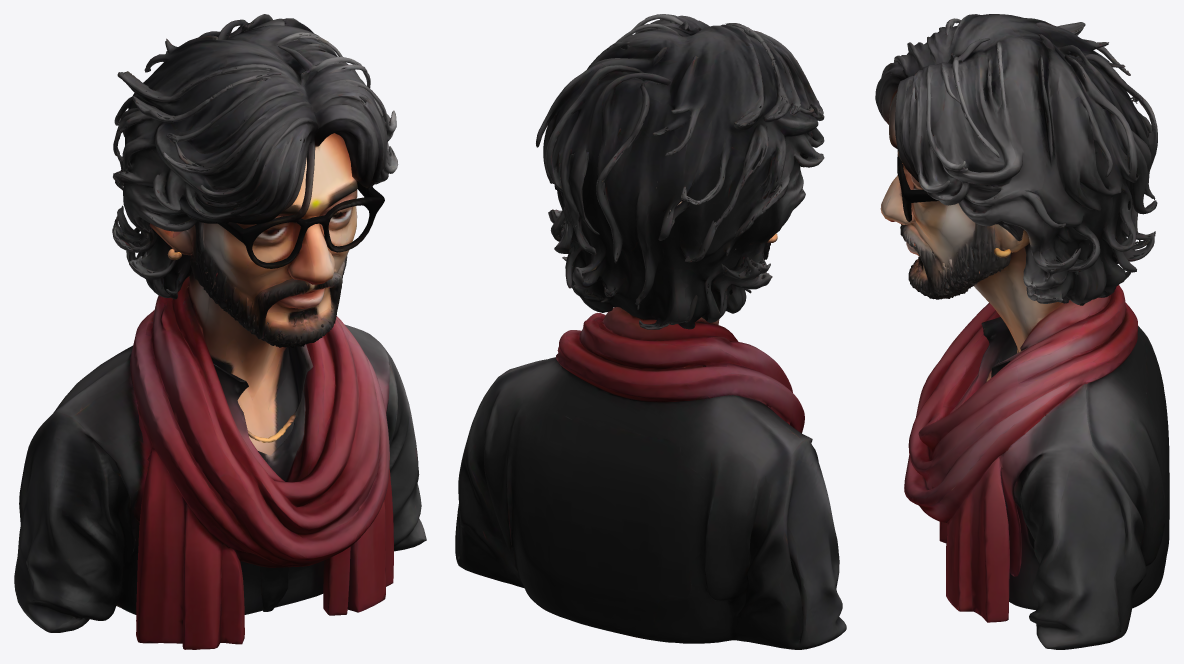
The model's file is varun_caricature_3D.glb.
The picture shows the model from 3 angles, left to right: view 1: azimuth 30°, elevation 25°; view 2: azimuth 150°, elevation 25°; view 3: azimuth 270°, elevation 25°; orthographic projection. The views are drawn at different scales.
Visible parts, largest first — view 1: world; view 2: world; view 3: world.
Part boxes in pixels (x1,y1,x2,y2): world: (14, 14, 426, 649); world: (455, 14, 846, 649); world: (875, 14, 1169, 649).
Bounding box in the file's own units: 0.7168 × 1 × 0.4985.
1 material, 1 textured.
